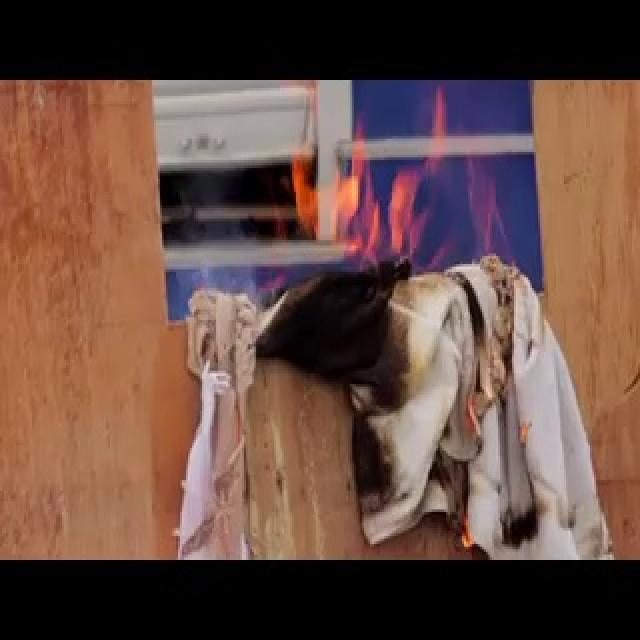Fire: (247, 83, 511, 299)
